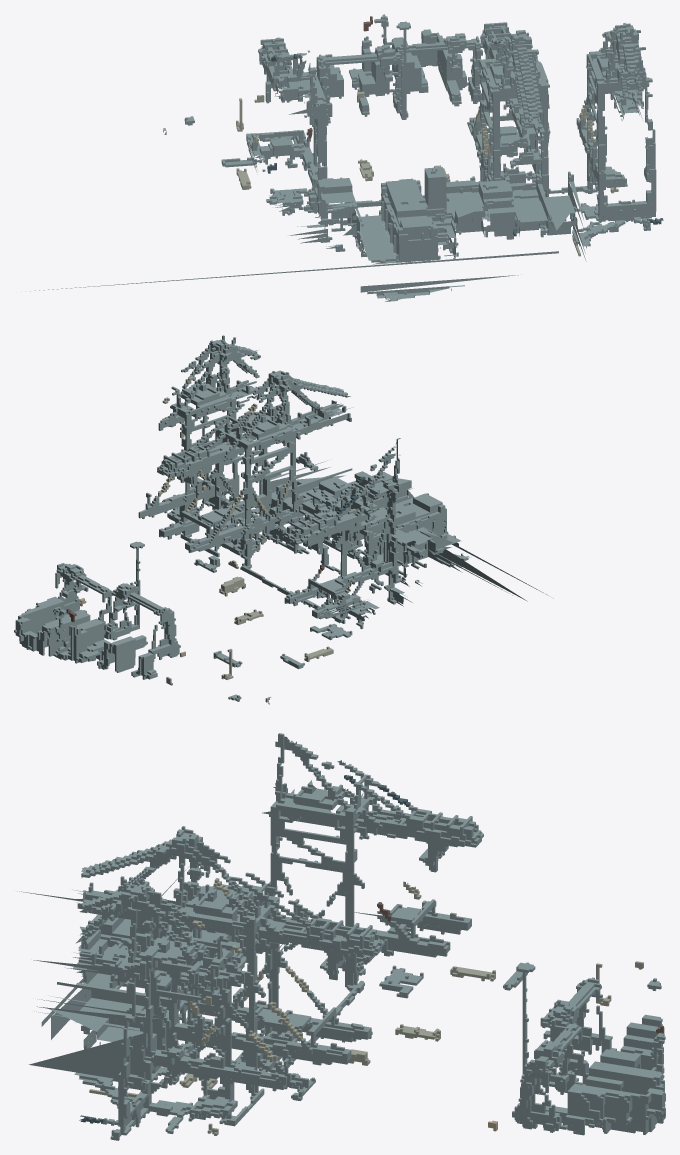
The picture shows the model from 3 angles, top to bottom: view 1: azimuth 30°, elevation 25°; view 2: azimuth 150°, elevation 25°; view 3: azimuth 270°, elevation 25°; orthographic projection. The views are drawn at different scales.
Visible parts, largest first — view 1: measured-industrial; view 2: measured-industrial; view 3: measured-industrial.
Boxes of the visible parts, x1=… form: measured-industrial: x1=30, y1=14, x2=663, y2=301; measured-industrial: x1=14, y1=335, x2=553, y2=704; measured-industrial: x1=19, y1=733, x2=665, y2=1140.
Size of the model in its own units: 291 by 96.88 by 229.
